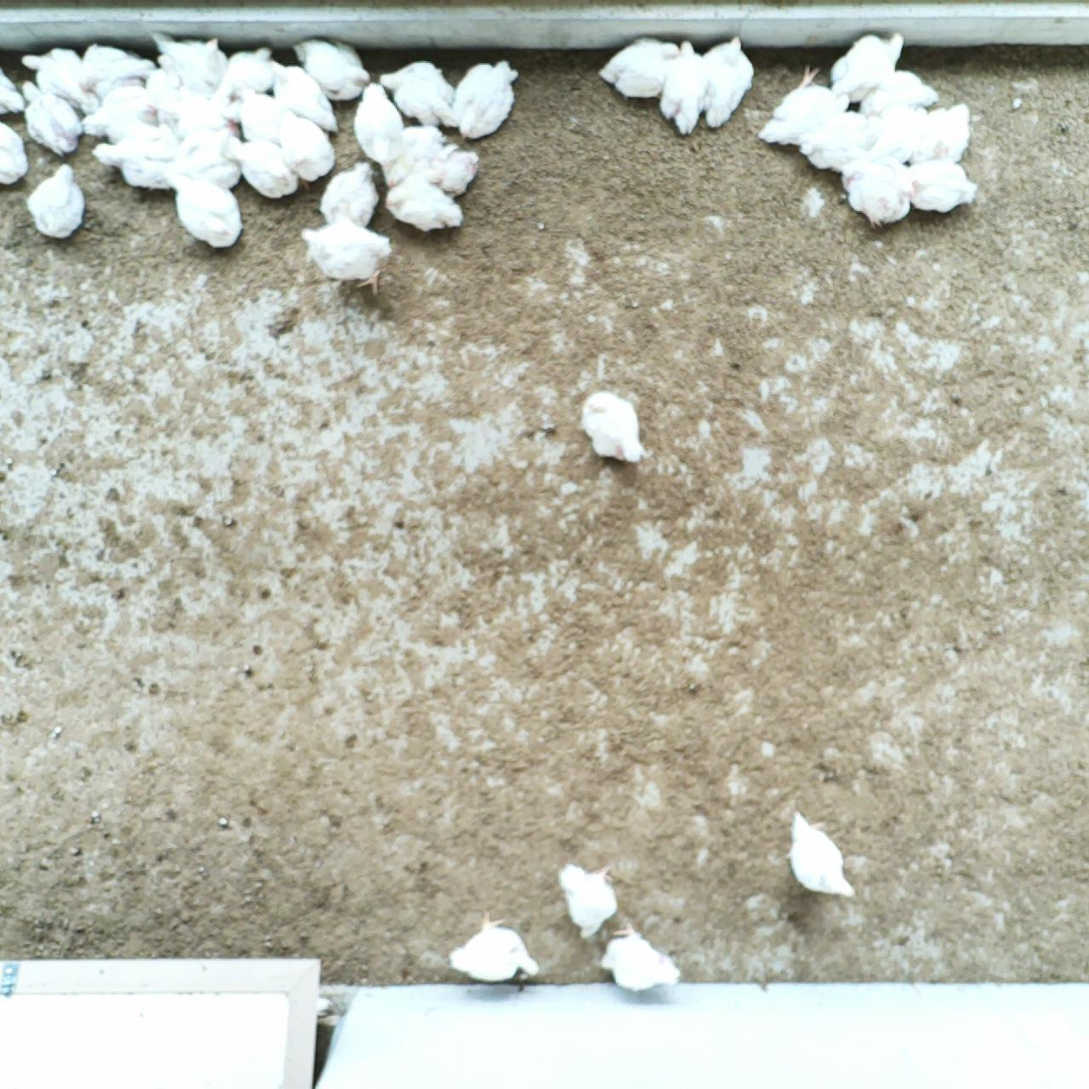chicken: (755, 64, 854, 153), (297, 212, 394, 298), (445, 909, 543, 989), (783, 808, 861, 903), (88, 118, 178, 195), (595, 31, 682, 108), (598, 919, 685, 996), (167, 170, 244, 252), (267, 56, 342, 138), (19, 44, 101, 118), (450, 58, 523, 141), (269, 106, 338, 193), (554, 854, 623, 941), (375, 56, 455, 129), (168, 118, 246, 192), (699, 34, 756, 135), (832, 28, 909, 102), (577, 390, 649, 467), (291, 33, 371, 102), (19, 77, 84, 161), (798, 108, 883, 172), (148, 29, 229, 95), (23, 160, 89, 241), (658, 38, 710, 137), (74, 39, 156, 101), (842, 165, 918, 231), (350, 78, 405, 169), (900, 153, 980, 215), (382, 176, 466, 234), (79, 81, 165, 135), (319, 158, 382, 229), (907, 100, 974, 166), (235, 83, 300, 151), (859, 68, 940, 122), (234, 138, 301, 199), (865, 99, 929, 162), (381, 123, 446, 184), (417, 143, 485, 196), (217, 44, 276, 98), (151, 90, 236, 124), (838, 155, 904, 188), (0, 122, 31, 188), (0, 60, 29, 121)
